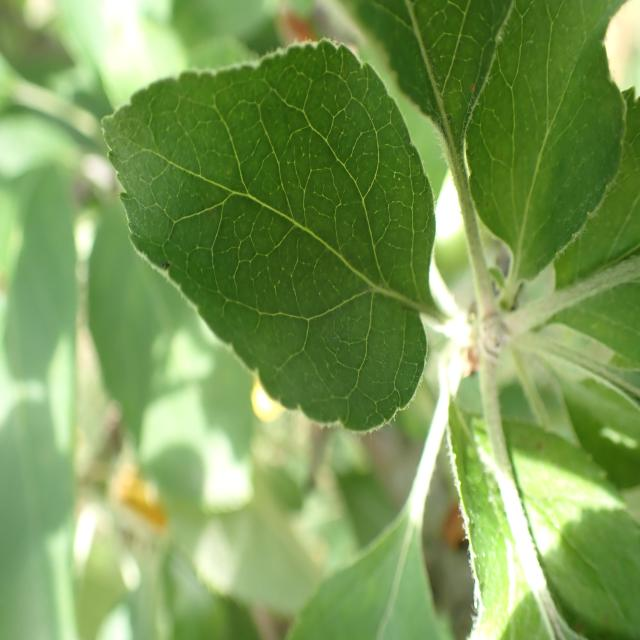healthy: (101, 36, 437, 437), (358, 0, 628, 280), (445, 367, 640, 640)
